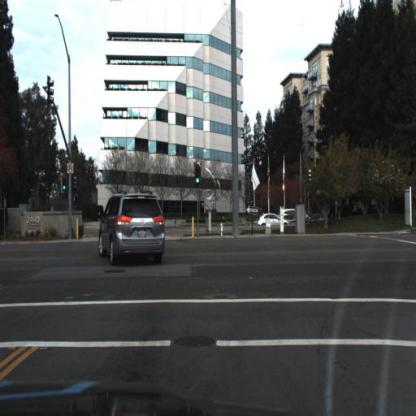car: (98, 191, 168, 271), (282, 206, 310, 230), (259, 213, 290, 231)
trafficLight-Green: (194, 149, 209, 198), (56, 175, 70, 206), (195, 161, 202, 189), (62, 178, 70, 197)
